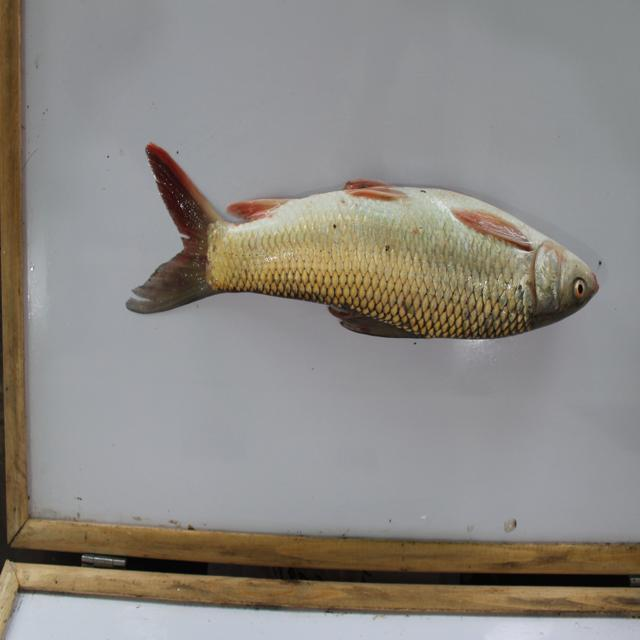Mori: (123, 131, 597, 351)
